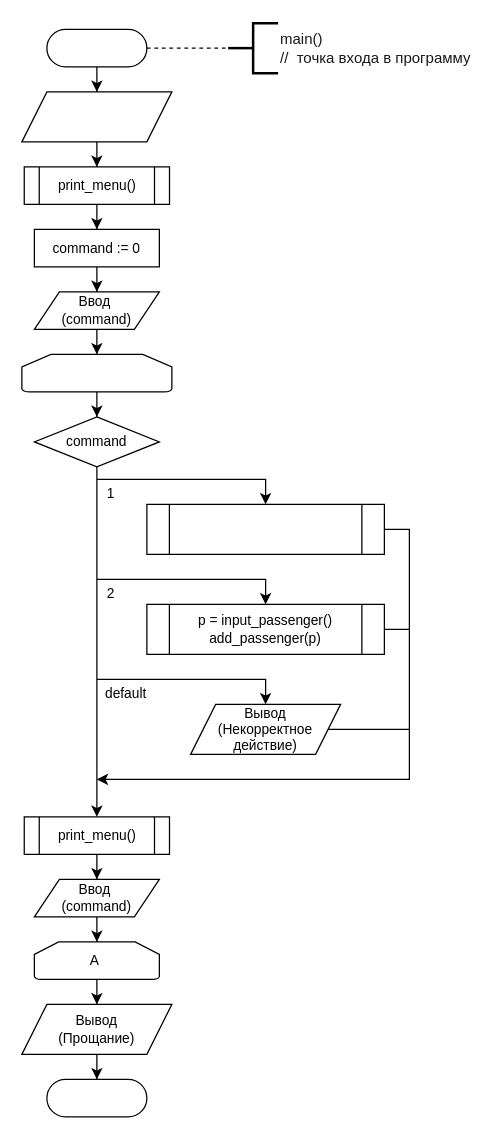
The diagram is 493 pixels wide and 1139 high, and some of its shapes have lost their labels. Here are the shapes that lost their labels. From the top down, the centre of each, then its label:
At (x=96, y=47): "Начало".
At (x=96, y=116): "Вывод (Приветствие)".
At (x=96, y=372): "A пока command != 0".
At (x=265, y=528): "print_table(read_pass_data())".
At (x=96, y=1097): "Конец".
